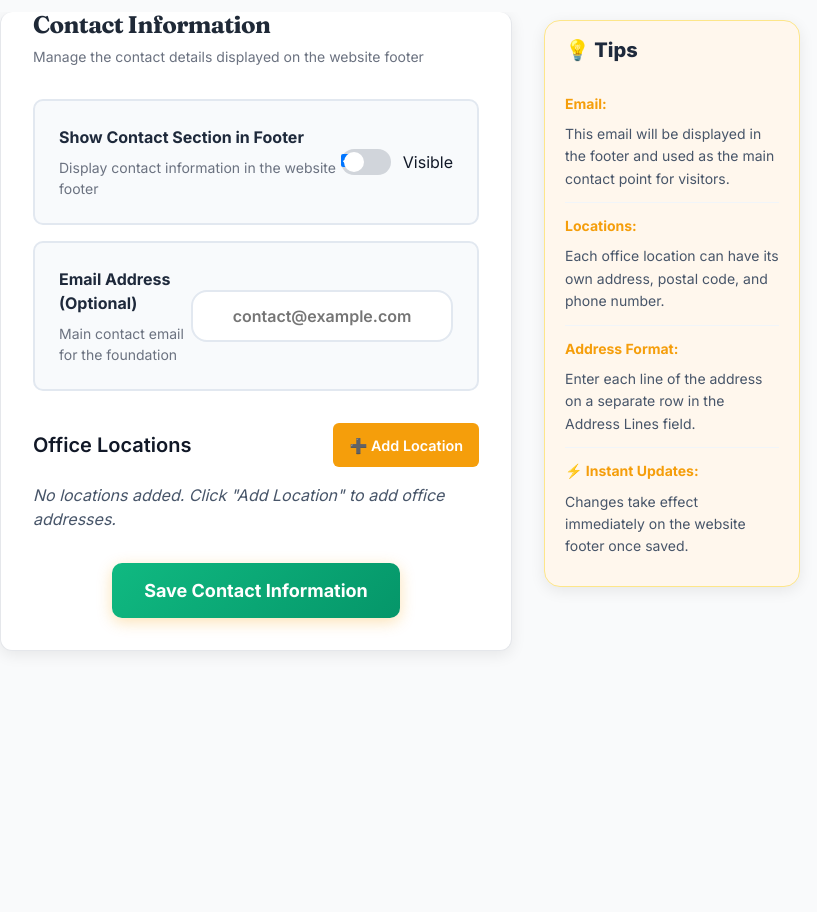
Test: AdminContactSettings › adds a new location
Expected: the button "Save Contact Information" is shown, [112,563,400,618]
Click the button "➕ Add Location" at coordinates (406, 445), box [334,423,479,467]
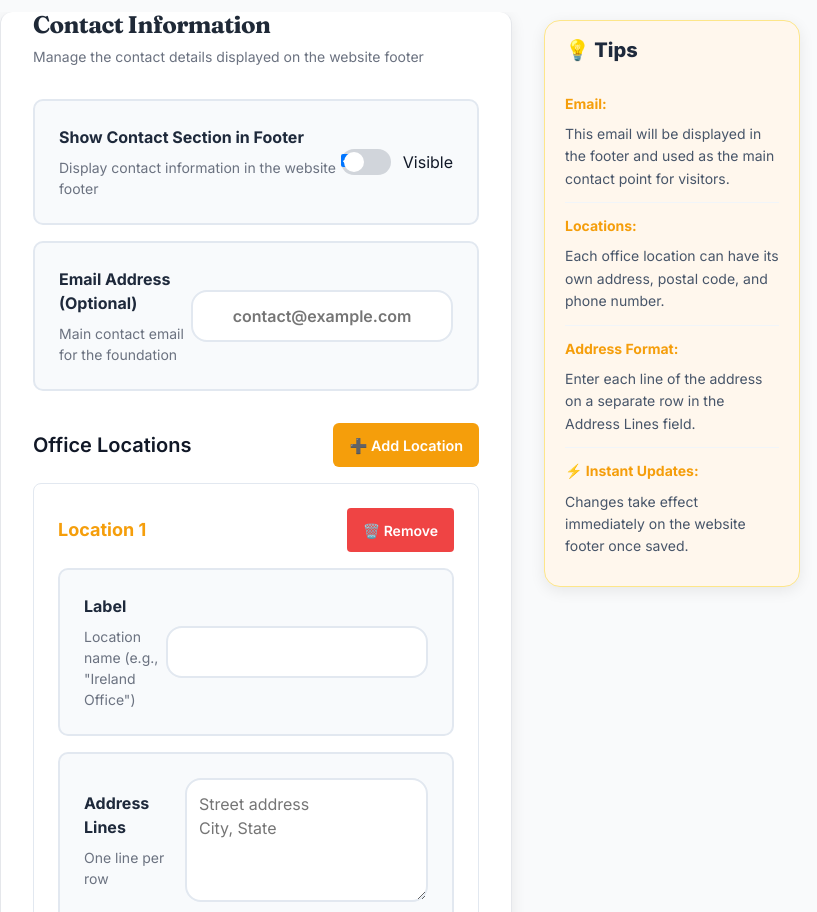
Now the text box with placeholder "Street address City, State" is shown, box [185,778,428,902]
